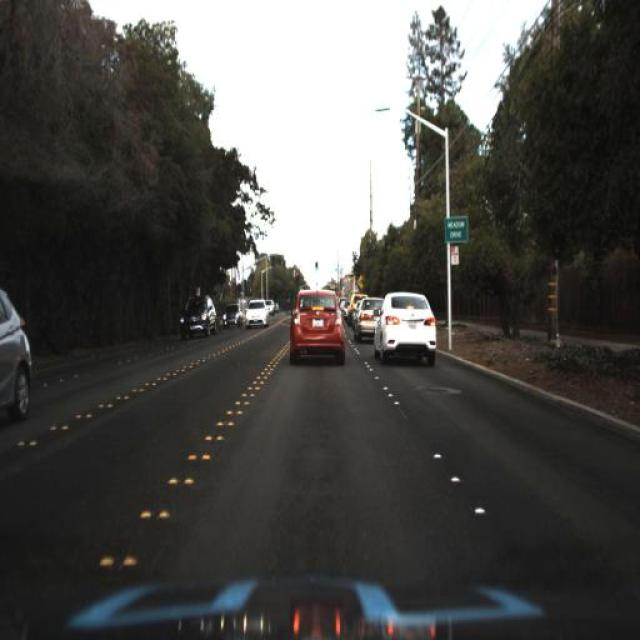car: (369, 287, 438, 364), (0, 281, 36, 428), (290, 286, 348, 370), (176, 290, 219, 340), (353, 292, 383, 342), (242, 294, 273, 332), (220, 297, 245, 335)
